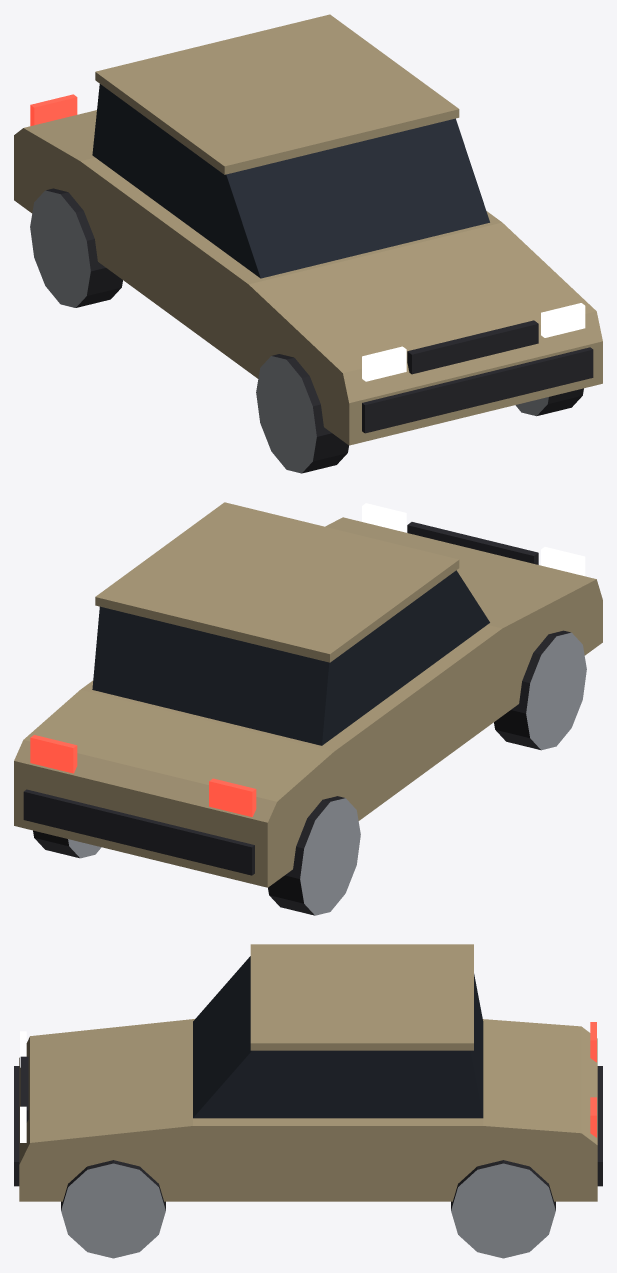
File: suv_sand.glb
3 renders of one model, top to bottom at view 1: azimuth 30°, elevation 25°; view 2: azimuth 150°, elevation 25°; view 3: azimuth 270°, elevation 25°, orthographic. The views are drawn at different scales.
Parts seen in each view (by area): view 1: suv_sand, wheel_RR, wheel_FR, wheel_FL; view 2: suv_sand, wheel_RR, wheel_FR, wheel_RL; view 3: suv_sand, wheel_FL, wheel_RL.
Boxes of the visible parts, <box> form: suv_sand: <box>14,14,602,445</box>; wheel_RR: <box>30,188,122,307</box>; wheel_FR: <box>256,354,348,473</box>; wheel_FL: <box>515,388,583,416</box>; suv_sand: <box>14,502,602,887</box>; wheel_RR: <box>268,796,360,915</box>; wheel_FR: <box>494,630,586,750</box>; wheel_RL: <box>33,830,101,858</box>; suv_sand: <box>14,944,602,1201</box>; wheel_FL: <box>61,1160,165,1258</box>; wheel_RL: <box>451,1160,555,1258</box>.
Bounding box in the file's own units: 2 × 1.71 × 4.38.
